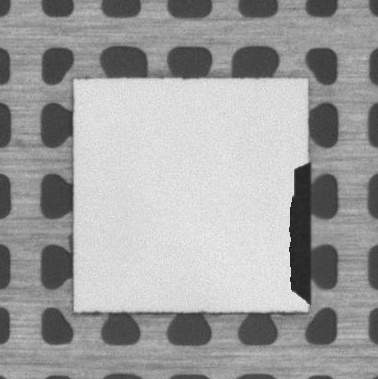DIE_BROKEN: (287, 160, 313, 300)
